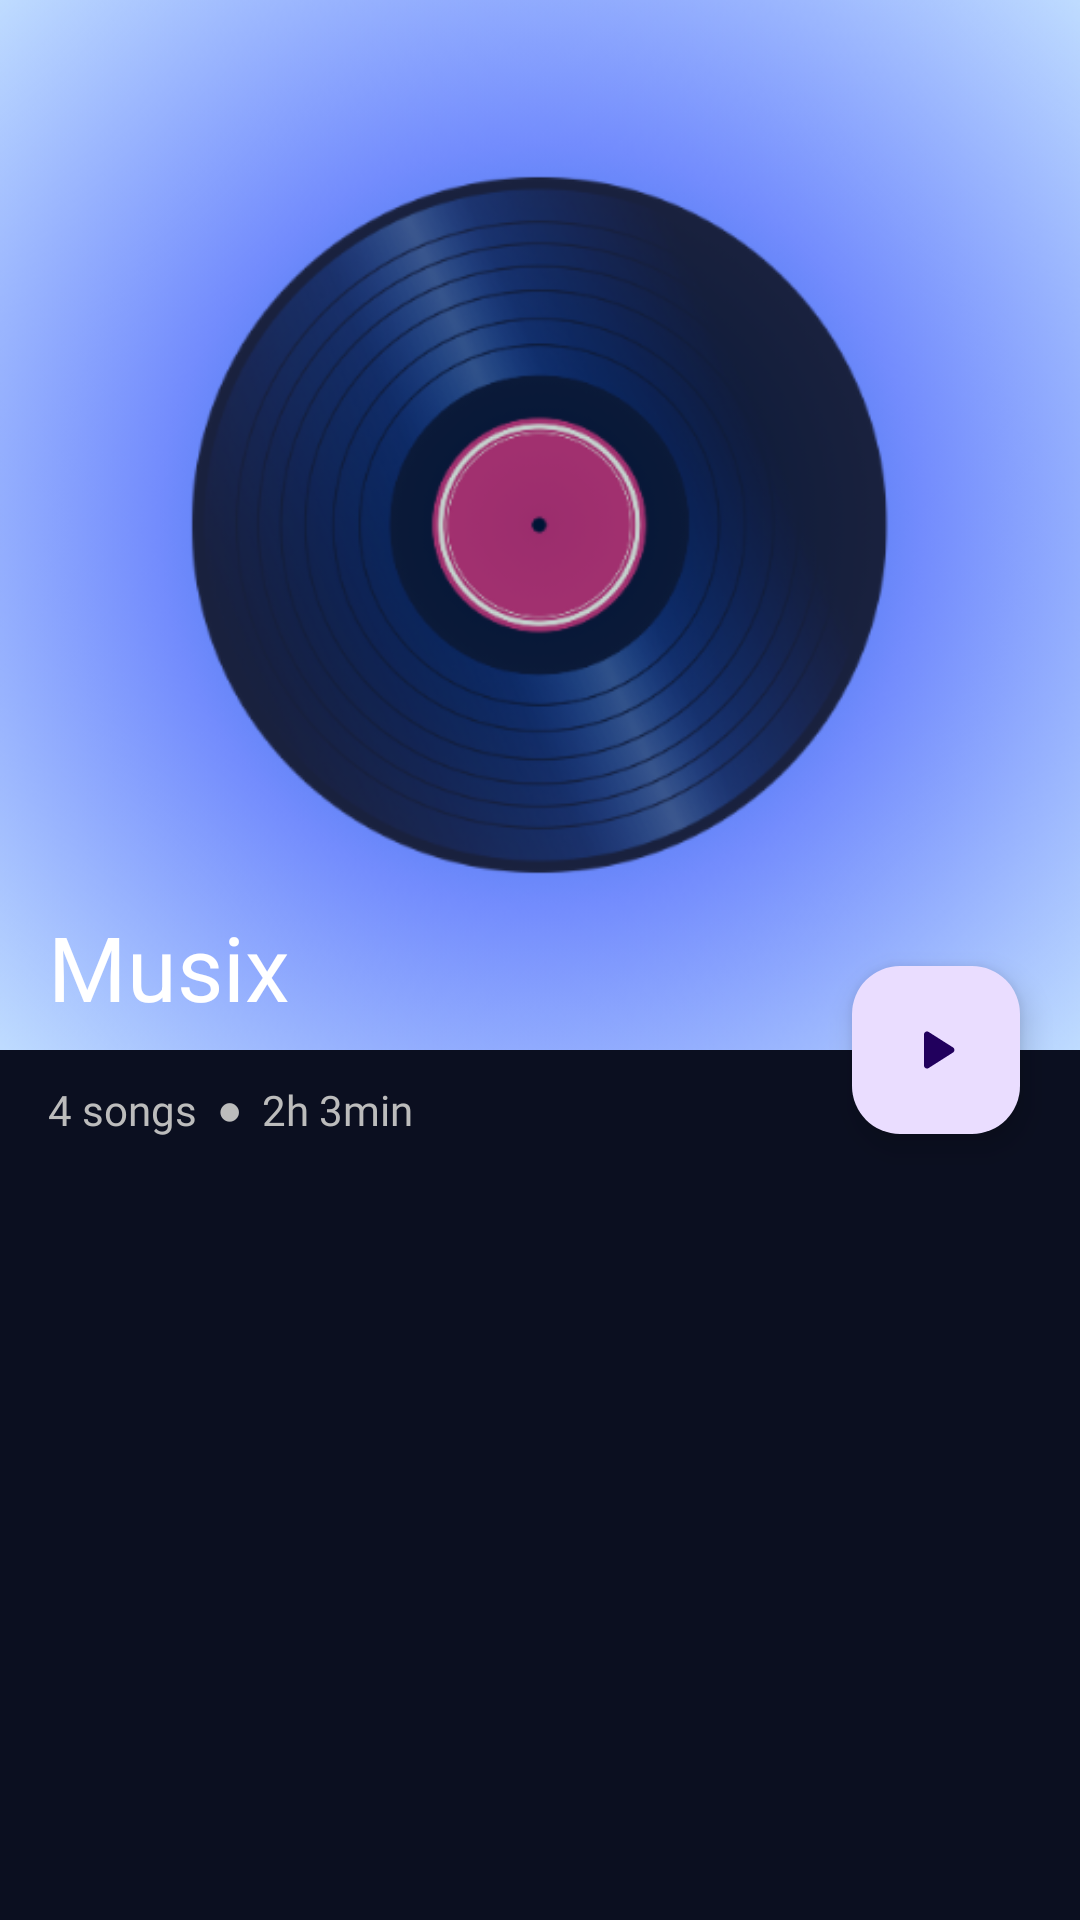

Named icons in this screenshot (1080 x 1920) and their centers, [x,y]:
play arrow: [936,1050]
